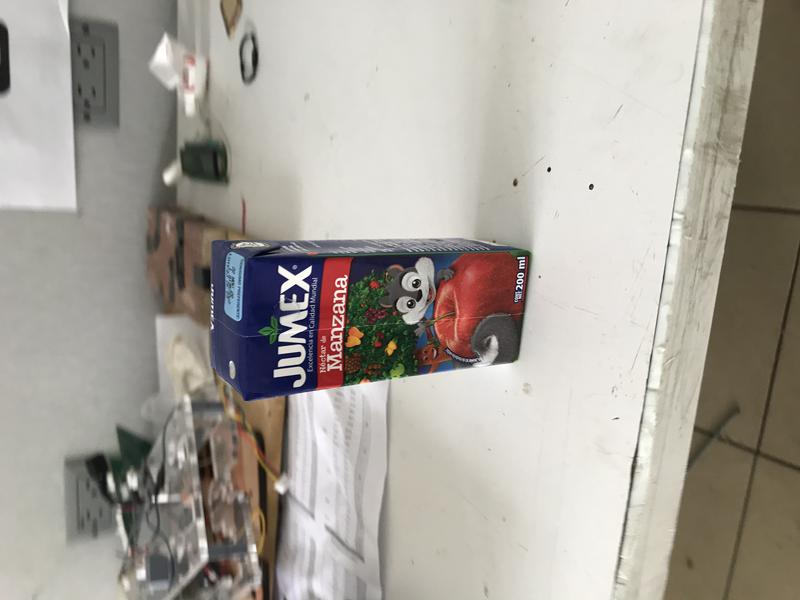jumex_cajita: (212, 239, 532, 402)
